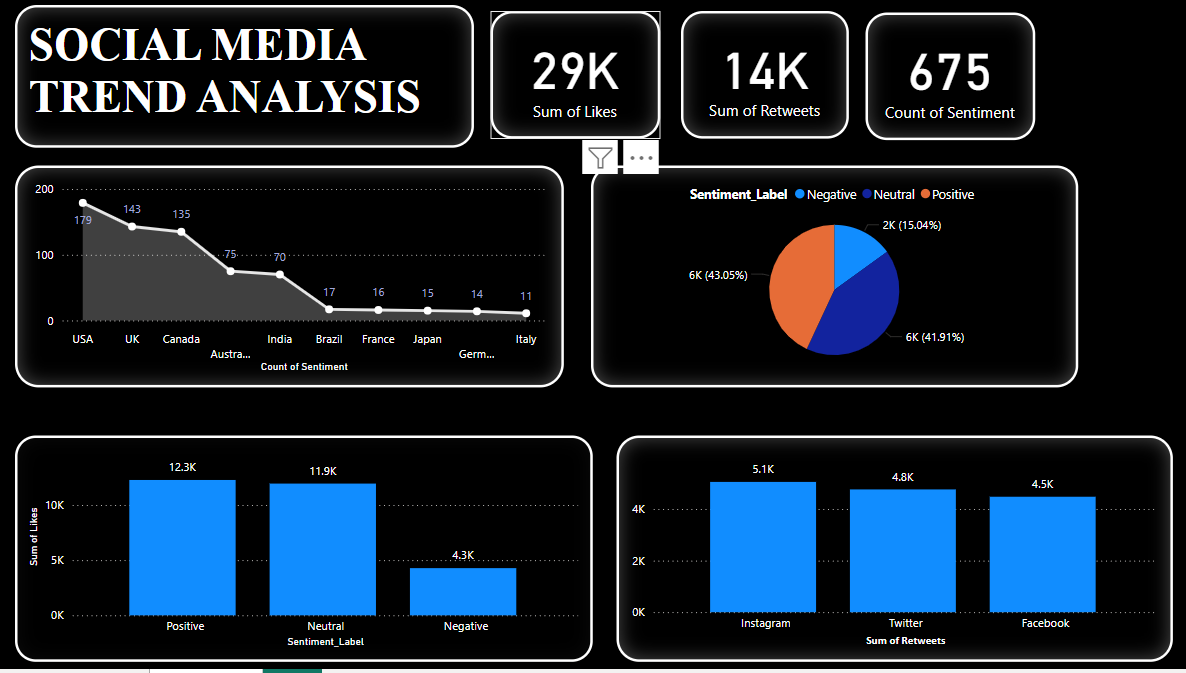

The page's visual inventory and layout, read from the dashboard file:
{"tool":"powerbi","page":{"name":"Page 1","canvas":[1280,720],"ordinal":0},"visuals":[{"type":"areaChart","fields":{"Category":["Sheet1.Country"],"Y":["CountNonNull(Sheet1.Sentiment)"]},"box":[28.6,186.1,582.2,235.4],"z":0},{"type":"pieChart","fields":{"Y":["Sum(Sheet1.Retweets)"],"Series":["Sheet1.Sentiment_Label"]},"box":[639.4,186.1,516.9,235.4],"z":1000},{"type":"columnChart","fields":{"Category":["Sheet1.Platform"],"Y":["Sum(Sheet1.Retweets)"]},"box":[666.5,472.4,590.1,240.2],"z":2000},{"type":"card","fields":{"Values":["CountNonNull(Sheet1.Sentiment)"]},"box":[930.5,23.9,179.7,135.2],"z":3000},{"type":"card","fields":{"Values":["Sum(Sheet1.Retweets)"]},"box":[734.9,22.3,178.1,135.2],"z":4000},{"type":"card","fields":{"Values":["Sum(Sheet1.Likes)"]},"box":[532.9,22.3,179.7,135.2],"z":5000},{"type":"columnChart","fields":{"Category":["Sheet1.Sentiment_Label"],"Y":["Sum(Sheet1.Likes)"]},"box":[28.6,472.4,612.4,240.2],"z":6000},{"type":"textbox","box":[28.6,15.9,486.7,151.1],"z":7000}]}

Visuals, with their boxes in screenshot pixels (x1, y1, x2, y2), scaled from the page's 1280x720 canvas onto the 1186x673 screenshot:
areaChart - Sheet1.Country x CountNonNull(Sheet1.Sentiment): BBox(26, 174, 566, 394)
pieChart - Sum(Sheet1.Retweets) x Sheet1.Sentiment_Label: BBox(592, 174, 1071, 394)
columnChart - Sheet1.Platform x Sum(Sheet1.Retweets): BBox(618, 442, 1164, 666)
card - CountNonNull(Sheet1.Sentiment): BBox(862, 22, 1029, 149)
card - Sum(Sheet1.Retweets): BBox(681, 21, 846, 147)
card - Sum(Sheet1.Likes): BBox(494, 21, 660, 147)
columnChart - Sheet1.Sentiment_Label x Sum(Sheet1.Likes): BBox(26, 442, 594, 666)
textbox: BBox(26, 15, 477, 156)
